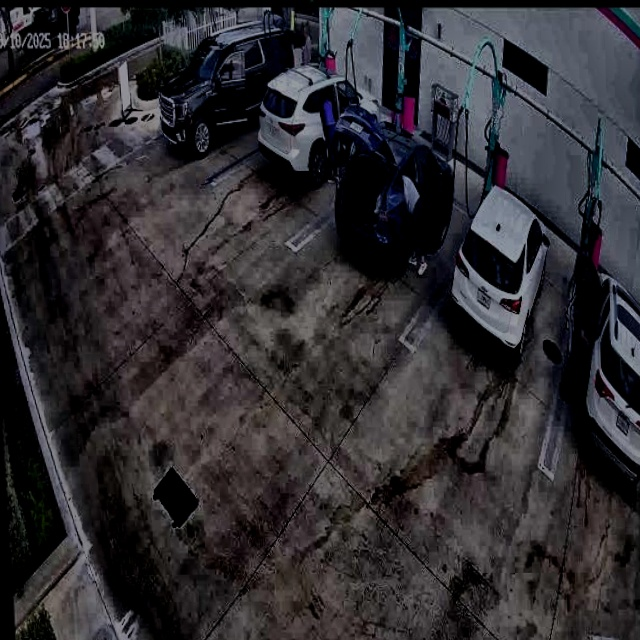Car: (331, 110, 459, 272), (448, 187, 551, 360), (256, 60, 384, 184)
